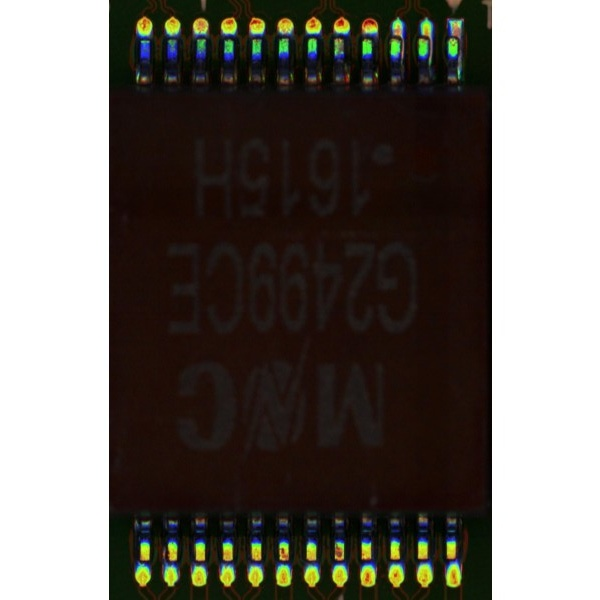Bad_podu: (391, 33, 401, 44), (449, 33, 458, 45), (420, 32, 429, 44)
Bad_qiaojiao: (457, 38, 461, 81), (427, 39, 432, 70), (399, 39, 404, 67)
